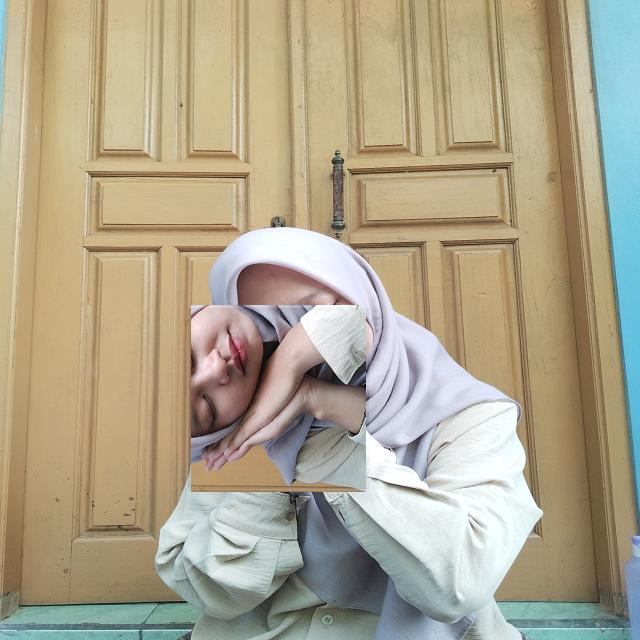tidur: (188, 308, 369, 489)
